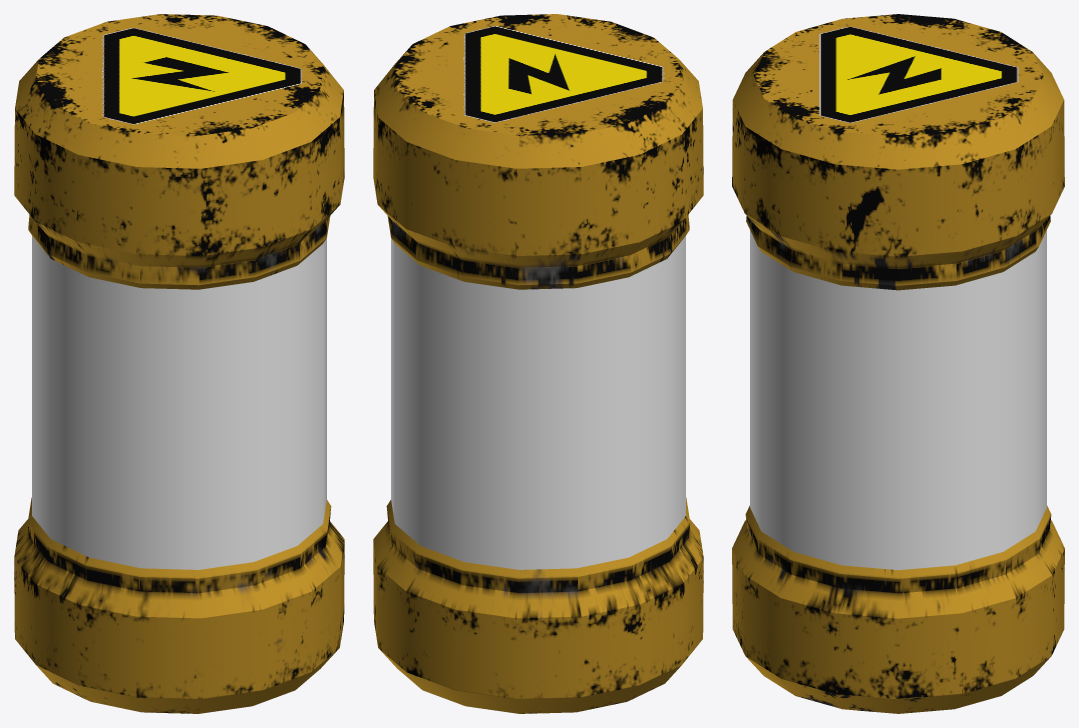
File: shield_canister.glb
The picture shows the model from 3 angles, left to right: view 1: azimuth 30°, elevation 25°; view 2: azimuth 150°, elevation 25°; view 3: azimuth 270°, elevation 25°; orthographic projection.
Parts seen in each view (by area): view 1: shield_canister; view 2: shield_canister; view 3: shield_canister.
Part boxes in pixels (x1,y1,x2,y2): shield_canister: (14, 14, 344, 713); shield_canister: (373, 14, 703, 713); shield_canister: (732, 14, 1064, 713).
Bounding box in the file's own units: 0.1352 × 0.2585 × 0.1352.
3 materials, 1 textured.
